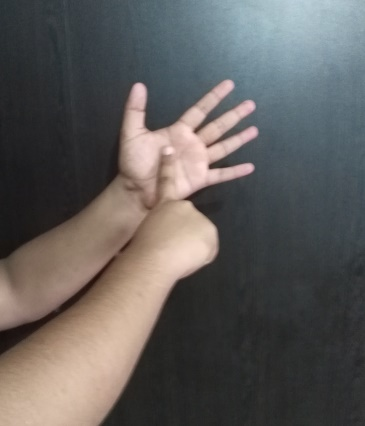oo: (116, 80, 261, 278)
